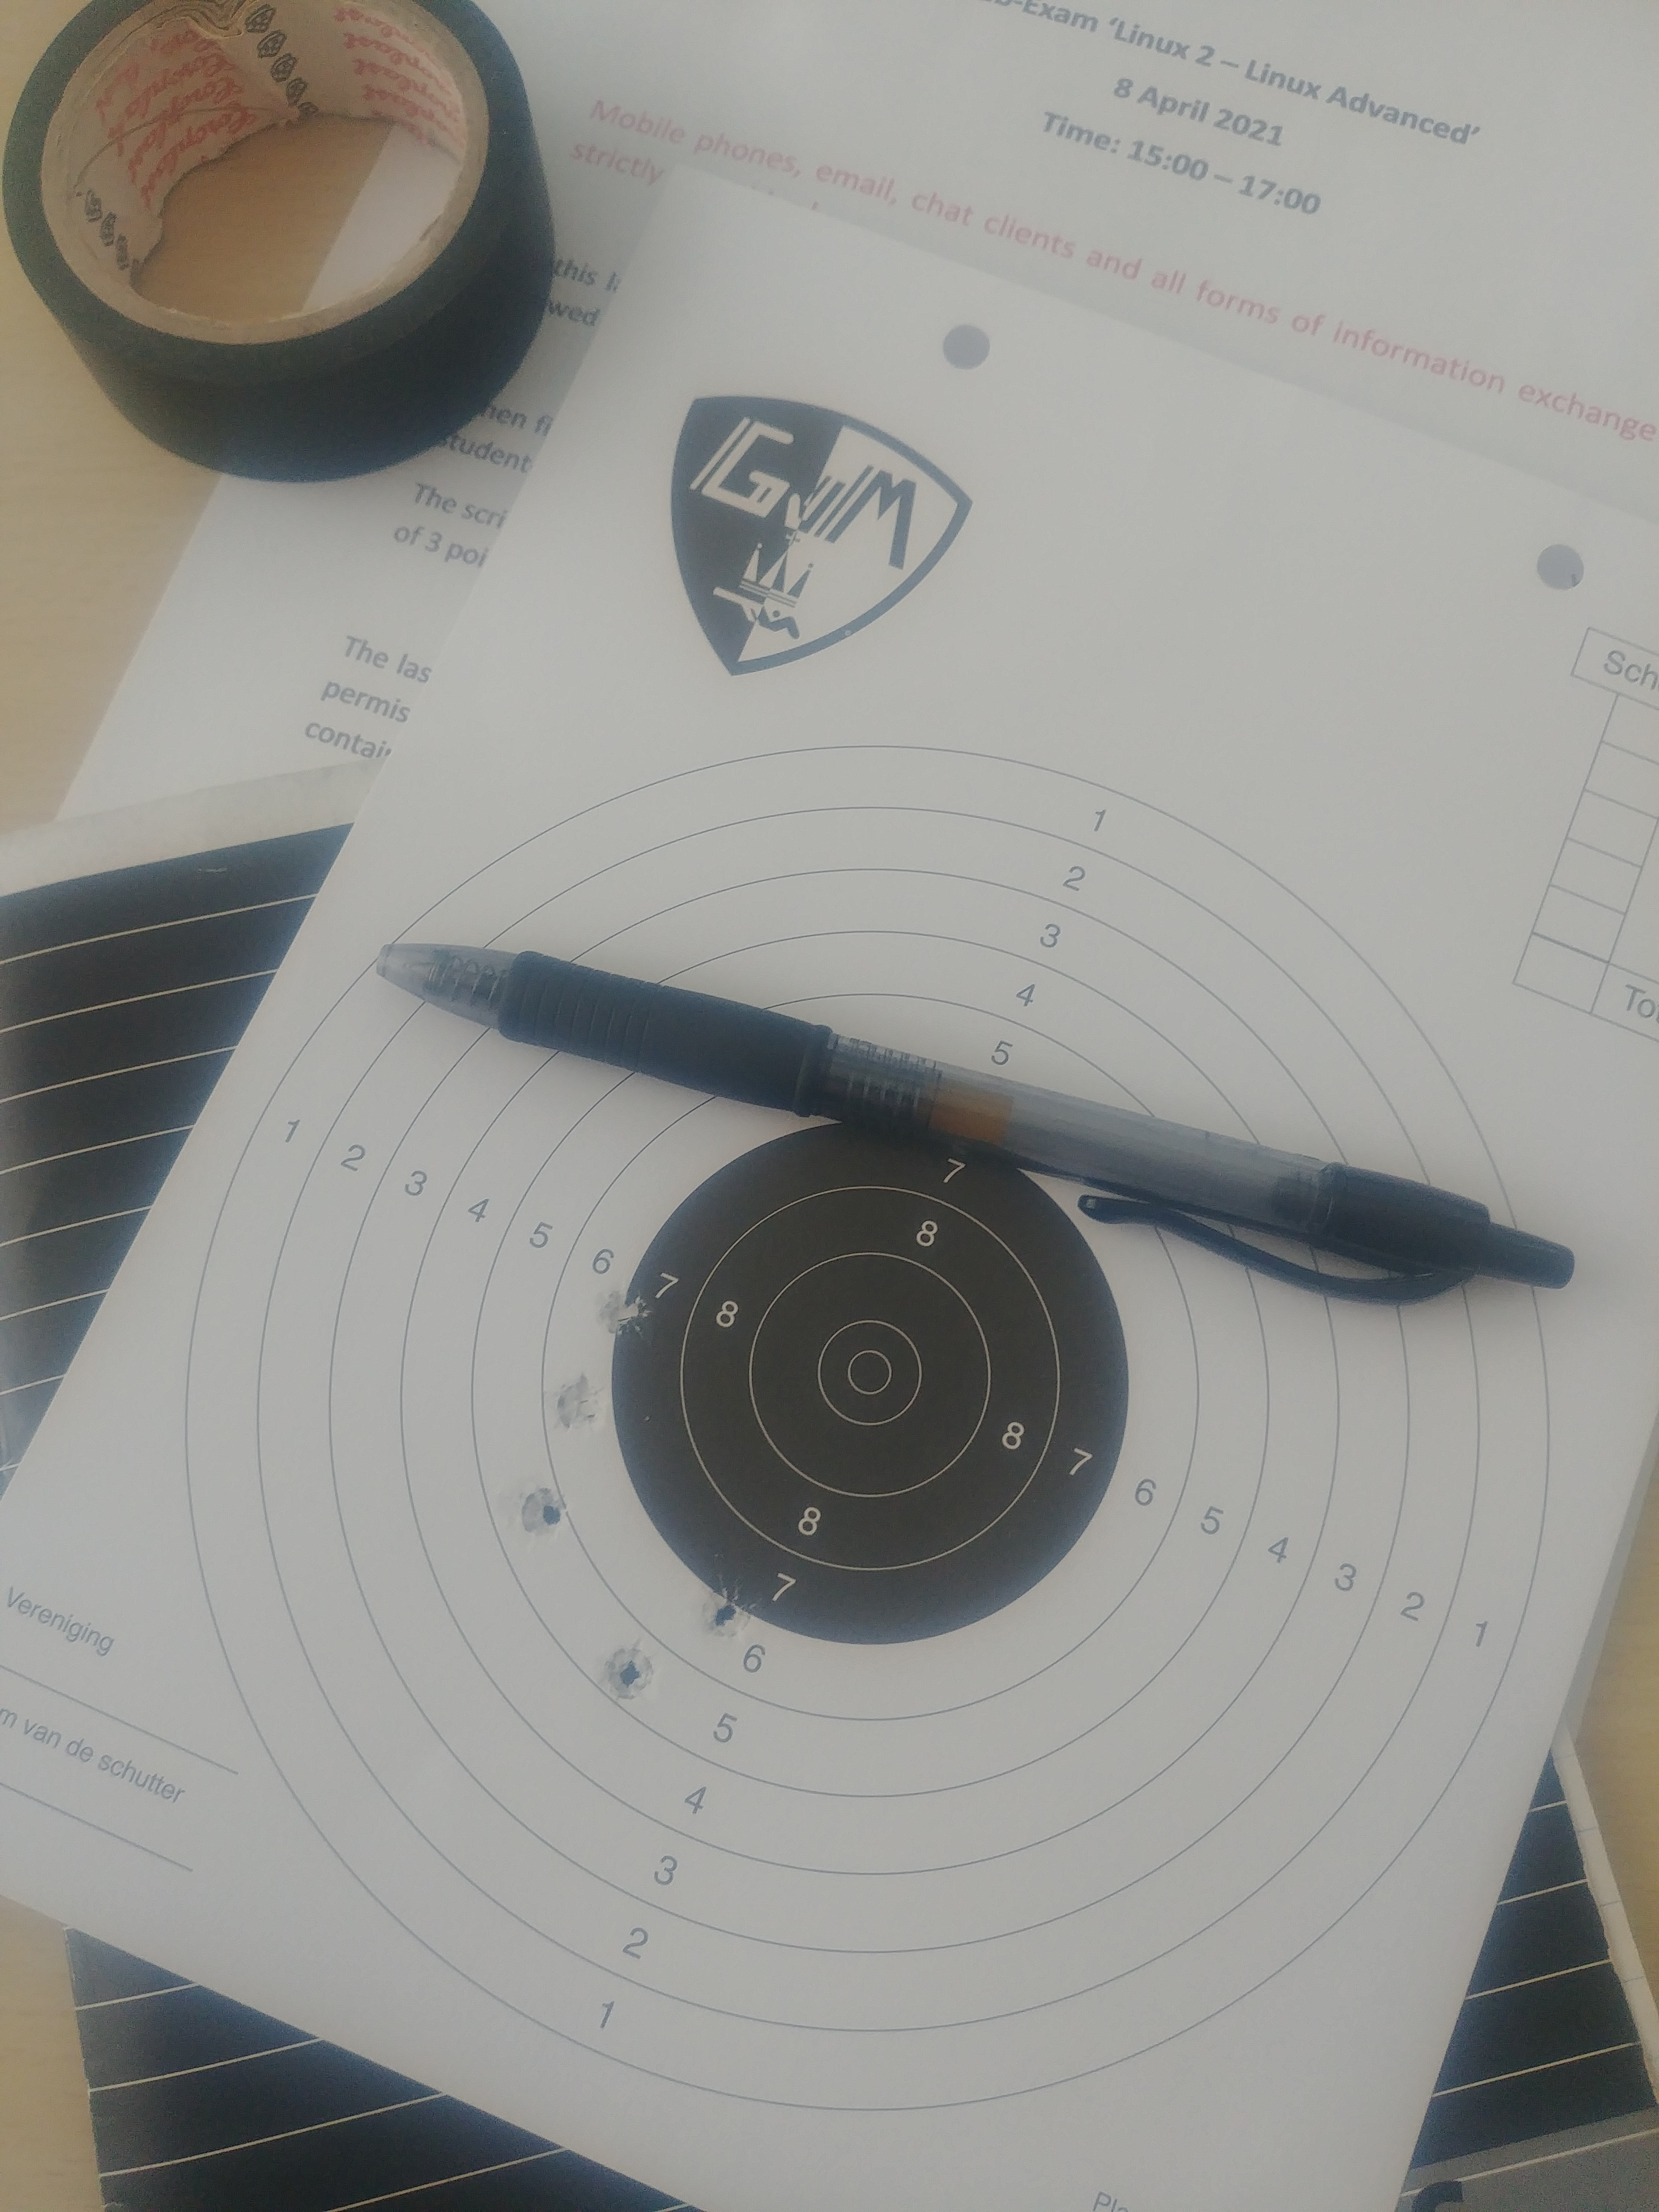center: (612, 1122, 1129, 1646)
out: (183, 744, 1551, 2111)
shot: (701, 1575, 760, 1641), (547, 1371, 608, 1432), (594, 1284, 652, 1341), (605, 1641, 655, 1700), (518, 1482, 570, 1536)
target: (816, 1318, 922, 1425)
